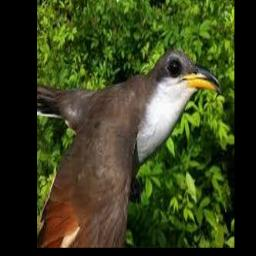Cuckoo: (37, 50, 221, 247)
